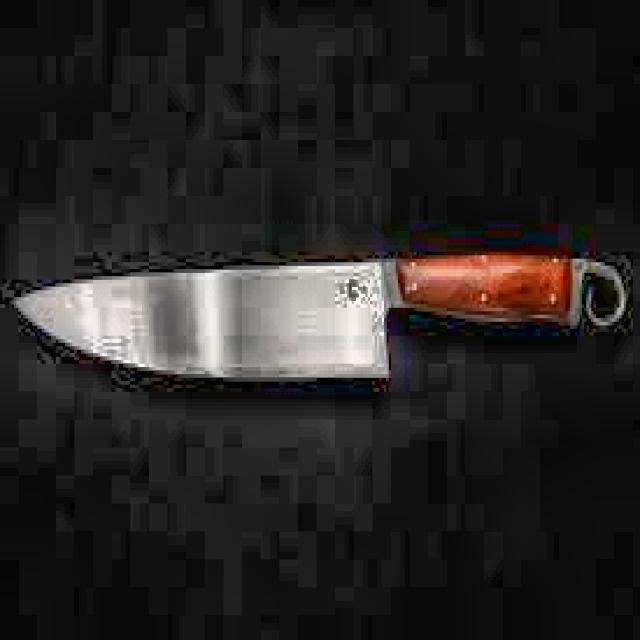knife: (17, 255, 624, 382)
